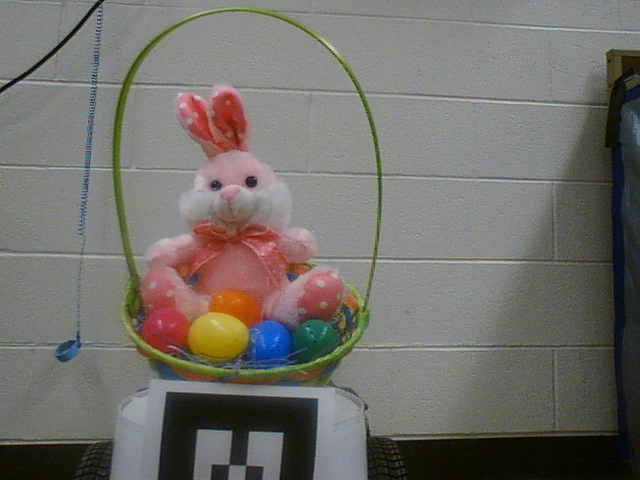bunny: (108, 1, 389, 404)
